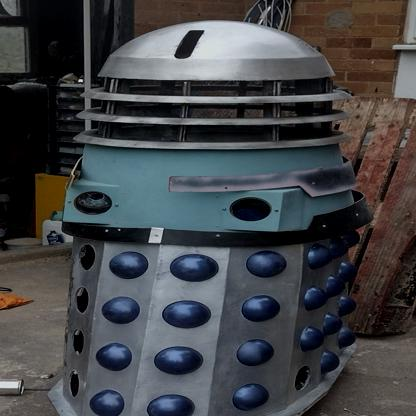dalek: (13, 19, 383, 416)
